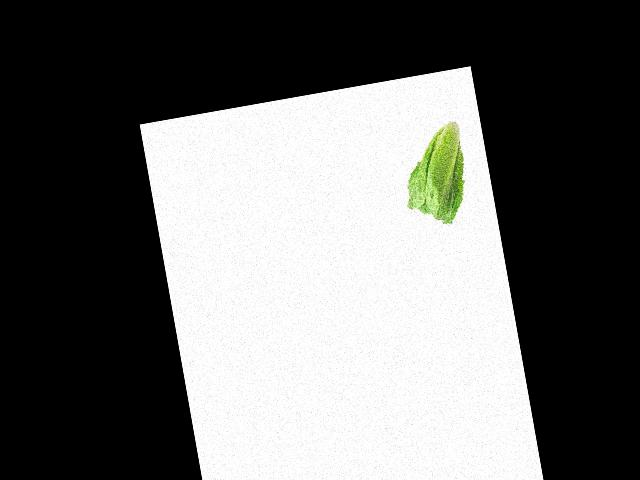lettuce: (390, 125, 498, 247)
